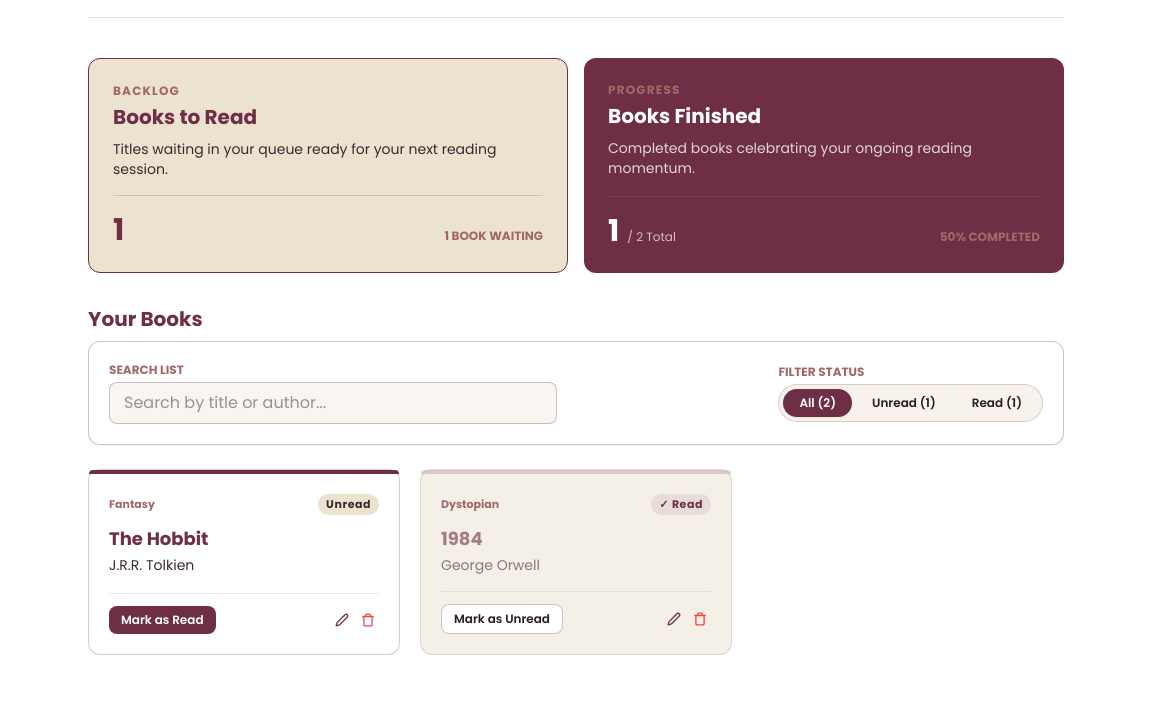
App Component Integration & Gate Tests › renders edit icon on book cards, opens edit modal, and updates book without page reload
The image size is (1152, 703).
(page scrolled)
Expected: the heading "The Hobbit" is shown, [109,526,208,550]
Click edit icon button
Click the button named "edit the hobbit" at (342, 620), box [331,609,353,631]
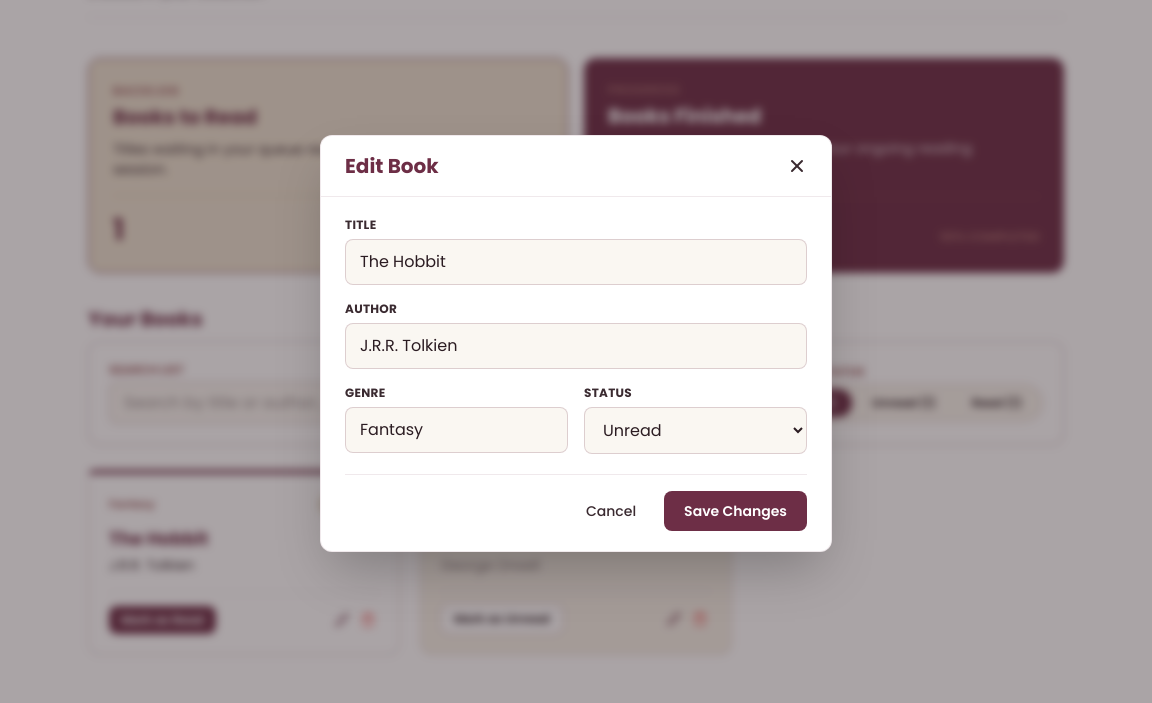
Expected: the heading "Edit Book" is shown, [345,152,439,180]
Expected: the field labelled "Title" holds "The Hobbit"
Change title and genre
Replace the text in the field labelled "Title" with "The Hobbit: Illustrated Edition" at (576, 262), box [345,238,807,284]
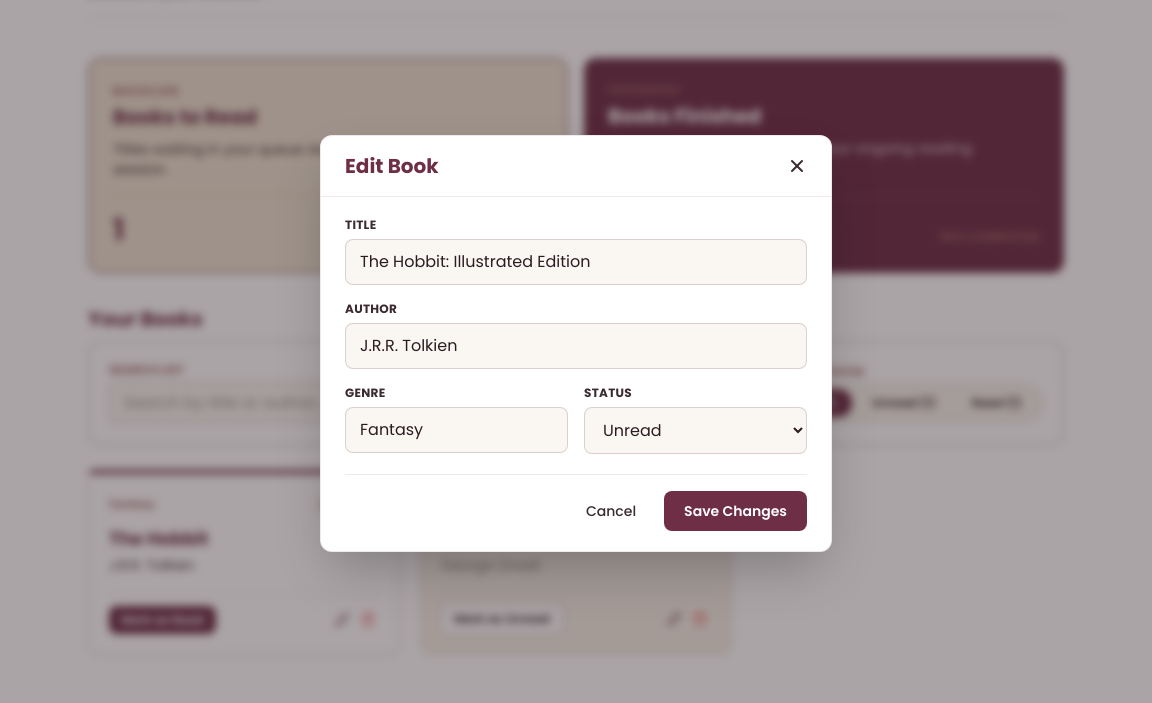
Replace the text in the field labelled "Genre" with "Classic Fantasy" at (456, 430), box [345,406,568,452]
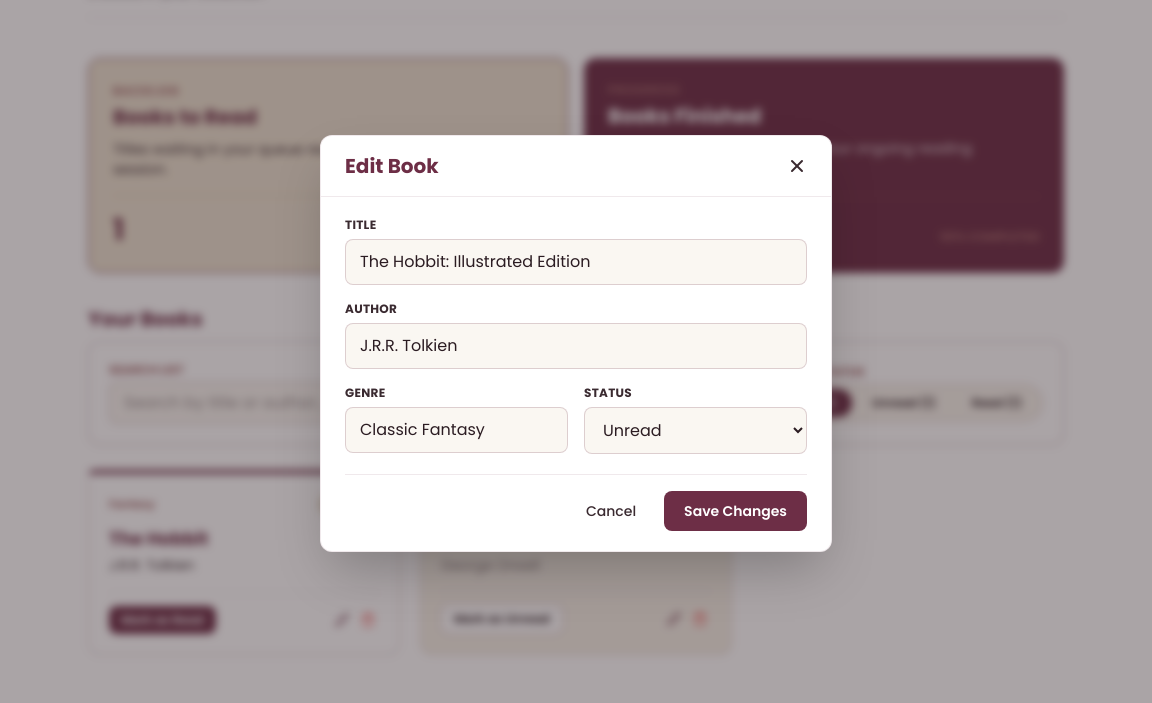
Submit changes
Click the button "Save Changes" at (736, 510), box [664,490,807,530]
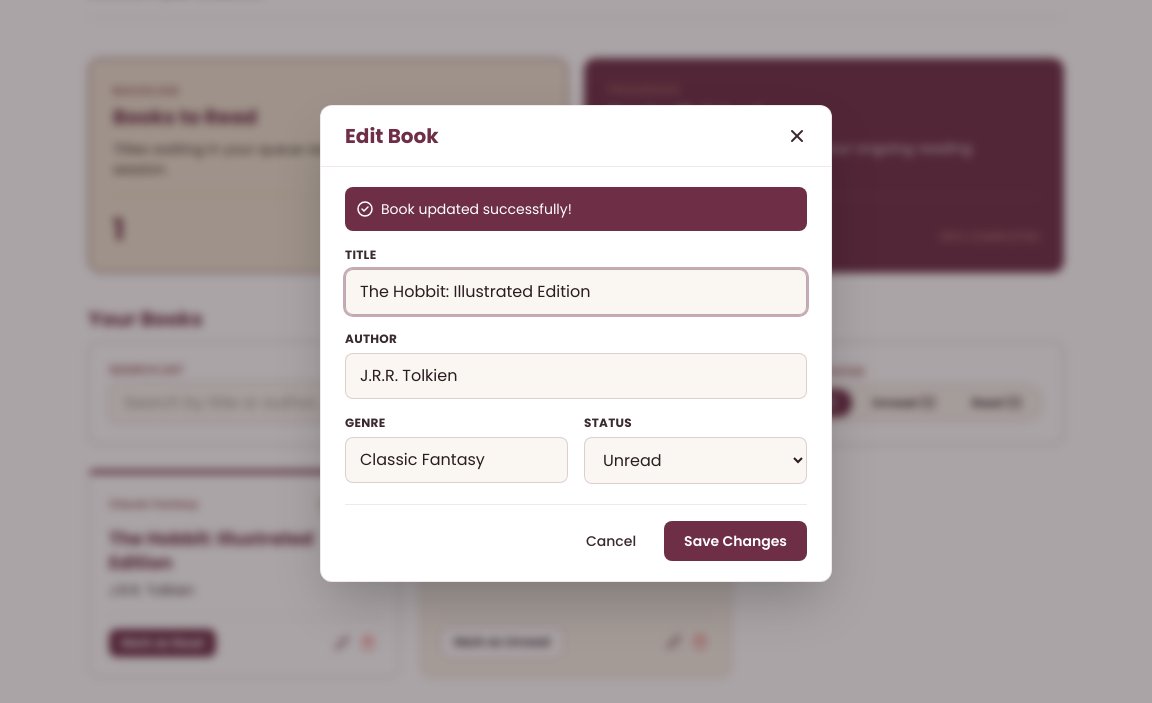
Expected: the heading "The Hobbit: Illustrated Edition" is shown, [109,526,313,575]
